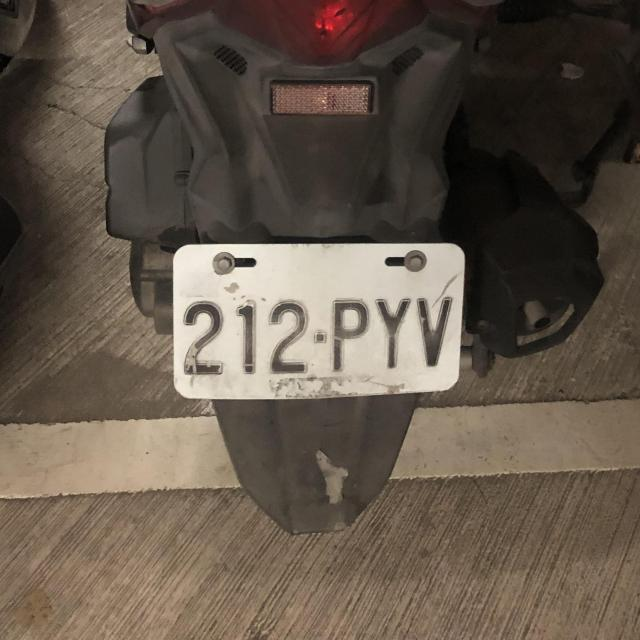W: (164, 238, 472, 404)
